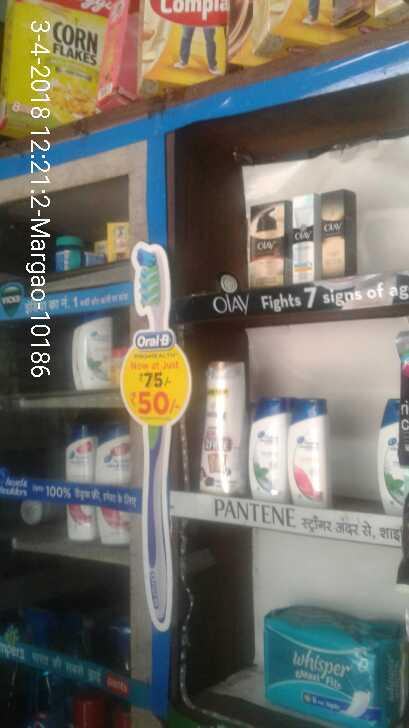vicks: (55, 228, 109, 268)
